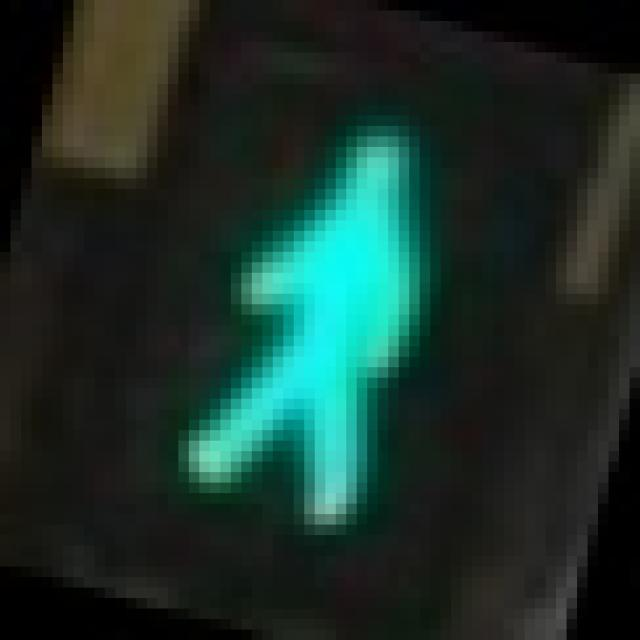geen-crossing: (147, 63, 462, 535)
